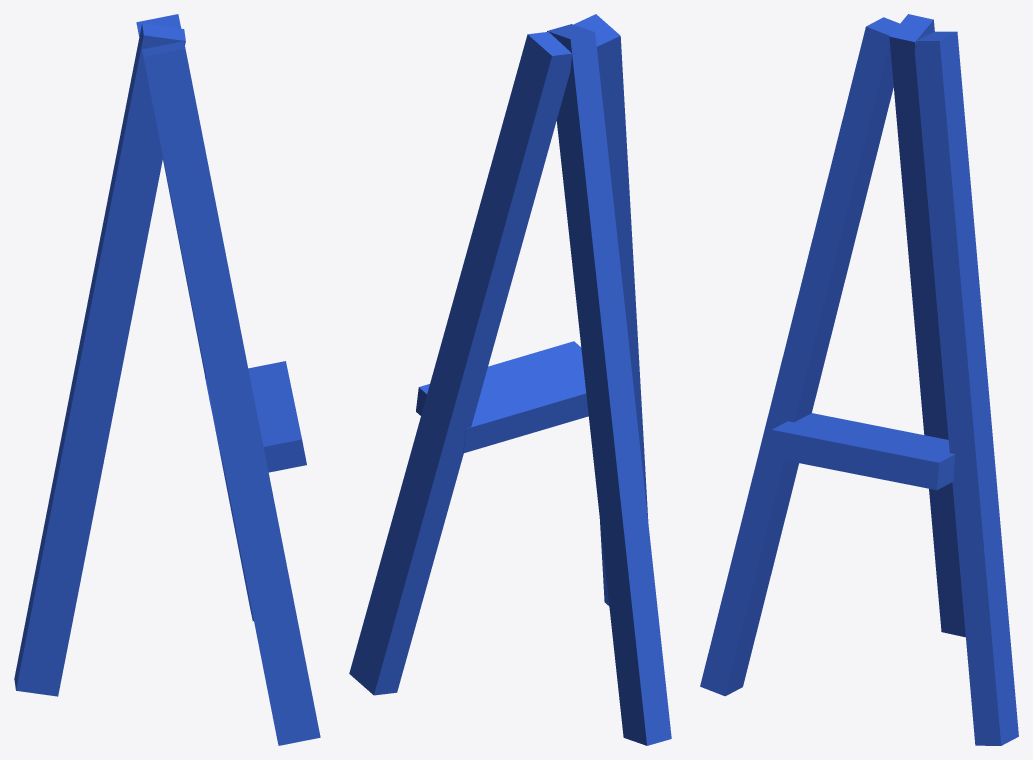
File: painting-feet-collider.glb
3 views of the same model, side by side, from view 1: azimuth 30°, elevation 25°; view 2: azimuth 150°, elevation 25°; view 3: azimuth 270°, elevation 25° (orthographic). The views are drawn at different scales.
Parts seen in each view (by area): view 1: Cube.052, Cube.051, Cube.049, Cube.050; view 2: Cube.050, Cube.051, Cube.049, Cube.052; view 3: Cube.050, Cube.052, Cube.051, Cube.049.
Part boxes in pixels (bbox=[...]): Cube.052: bbox=[142, 41, 320, 745]; Cube.051: bbox=[14, 23, 185, 696]; Cube.049: bbox=[205, 361, 306, 480]; Cube.050: bbox=[136, 14, 253, 621]; Cube.050: bbox=[349, 31, 574, 695]; Cube.051: bbox=[547, 24, 671, 745]; Cube.049: bbox=[416, 341, 588, 453]; Cube.052: bbox=[574, 14, 648, 605]; Cube.050: bbox=[914, 31, 1018, 745]; Cube.052: bbox=[700, 17, 899, 696]; Cube.051: bbox=[889, 14, 965, 637]; Cube.049: bbox=[769, 413, 955, 490].
Size of the model in its own units: 1.78 by 3.78 by 1.68.
